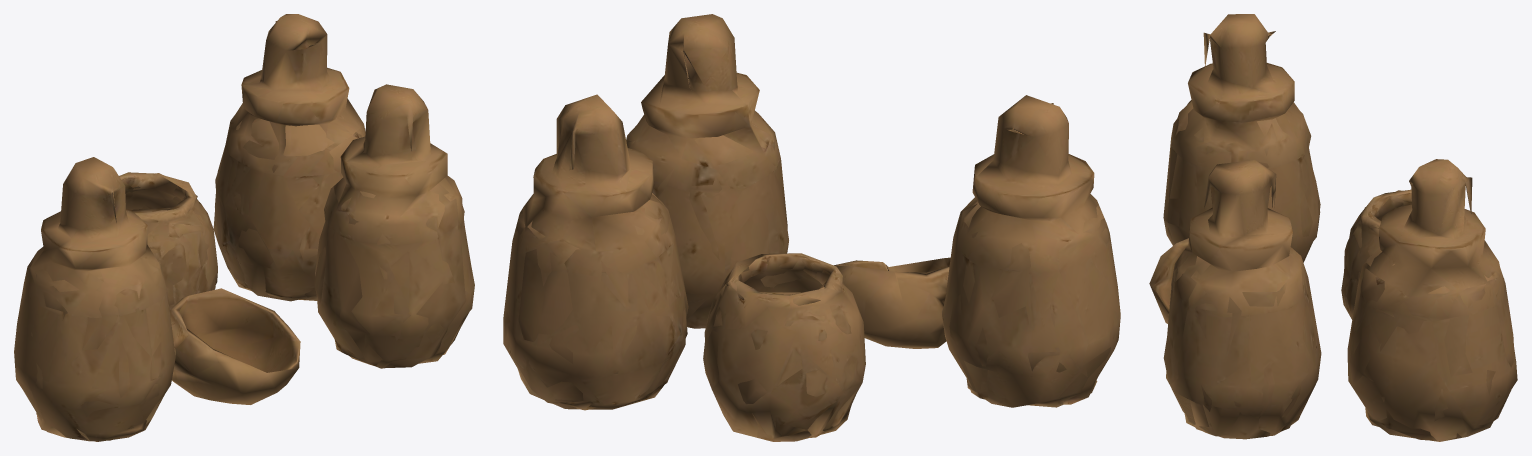
File: urn.glb
The picture shows the model from 3 angles, left to right: view 1: azimuth 30°, elevation 25°; view 2: azimuth 150°, elevation 25°; view 3: azimuth 270°, elevation 25°; orthographic projection. The views are drawn at different scales.
Bounding box in the file's own units: 1.9 × 1.05 × 1.39.
1 material, 1 textured.
